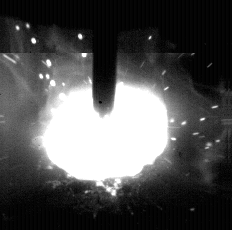arame: (93, 0, 117, 117)
poca: (41, 0, 169, 230)
